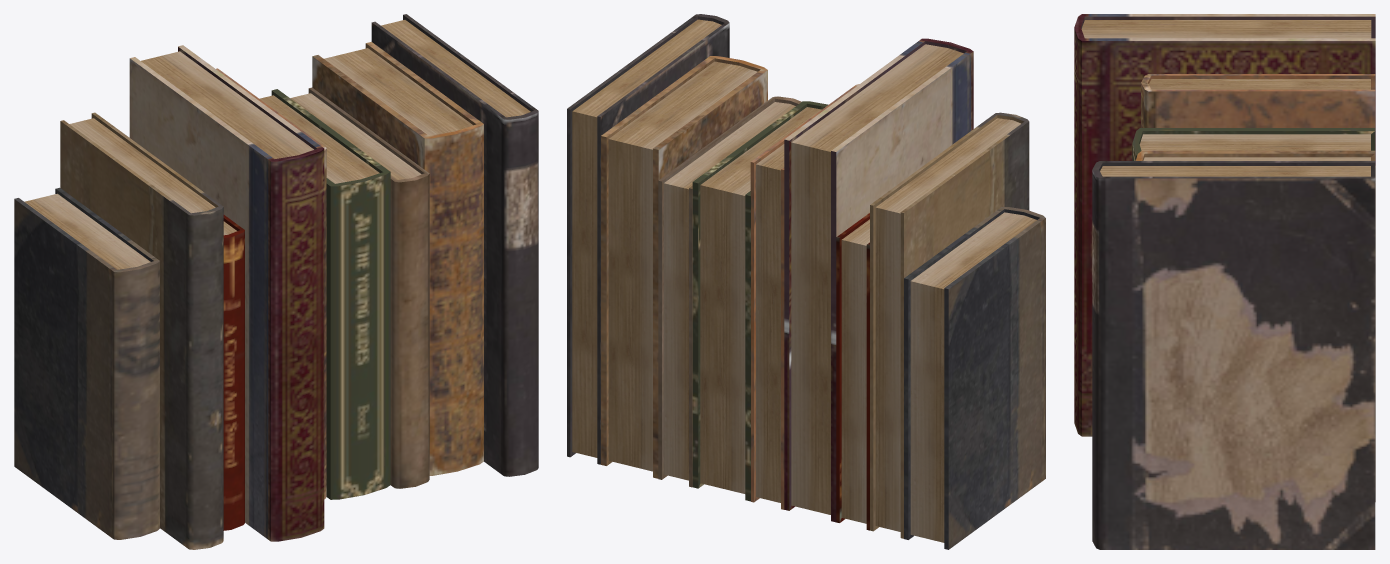
The model's file is SM_Book_Old.017.fbx.
3 renders of one model, left to right at view 1: azimuth 30°, elevation 25°; view 2: azimuth 150°, elevation 25°; view 3: azimuth 270°, elevation 25°, orthographic. The views are drawn at different scales.
Parts seen in each view (by area): view 1: SM_Book_Old.017; view 2: SM_Book_Old.017; view 3: SM_Book_Old.017.
Part boxes in pixels (x1,y1,x2,y2): SM_Book_Old.017: [14, 14, 538, 549]; SM_Book_Old.017: [567, 14, 1045, 549]; SM_Book_Old.017: [1074, 14, 1375, 549].
Bounding box in the file's own units: 0.3782 × 0.3507 × 0.2421.
